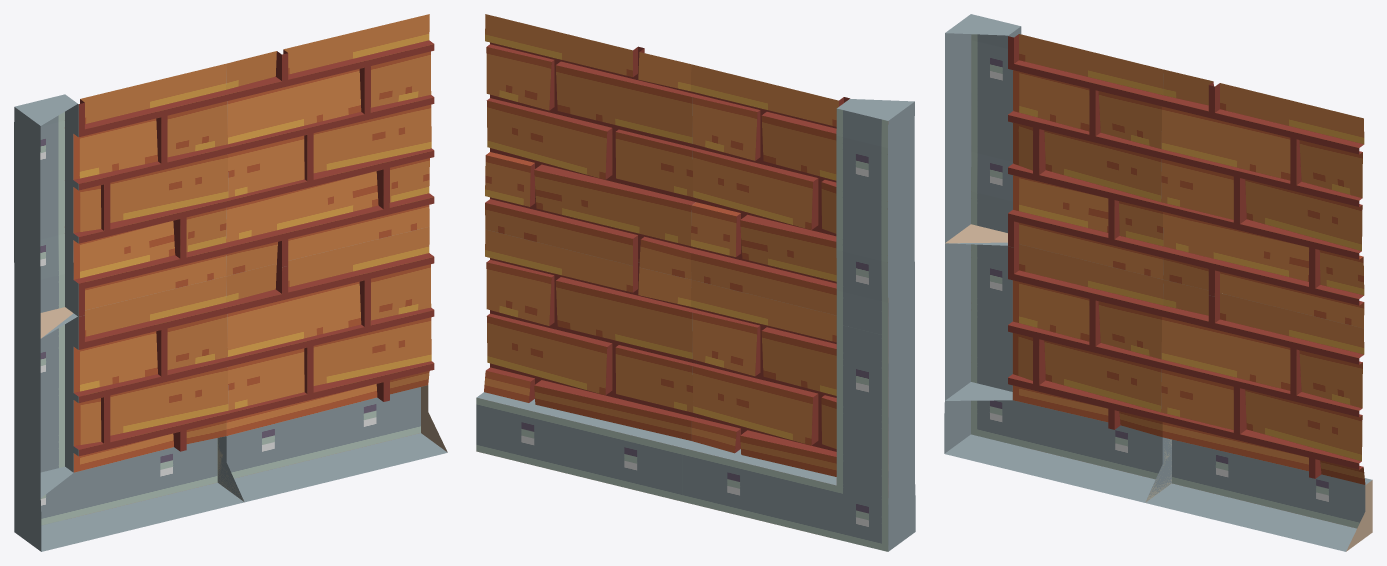
The model's file is CornerBRKayu.fbx.
3 views of the same model, side by side, from view 1: azimuth 30°, elevation 25°; view 2: azimuth 150°, elevation 25°; view 3: azimuth 330°, elevation 25° (orthographic). The views are drawn at different scales.
Visible parts, largest first — view 1: CornerBRKayu; view 2: CornerBRKayu; view 3: CornerBRKayu.
Part boxes in pixels (box(x1,y1,x2,y2)): CornerBRKayu: box(14, 14, 447, 551); CornerBRKayu: box(476, 14, 915, 551); CornerBRKayu: box(944, 14, 1372, 551).
Bounding box in the file's own units: 11.04 × 94.81 × 94.81.
